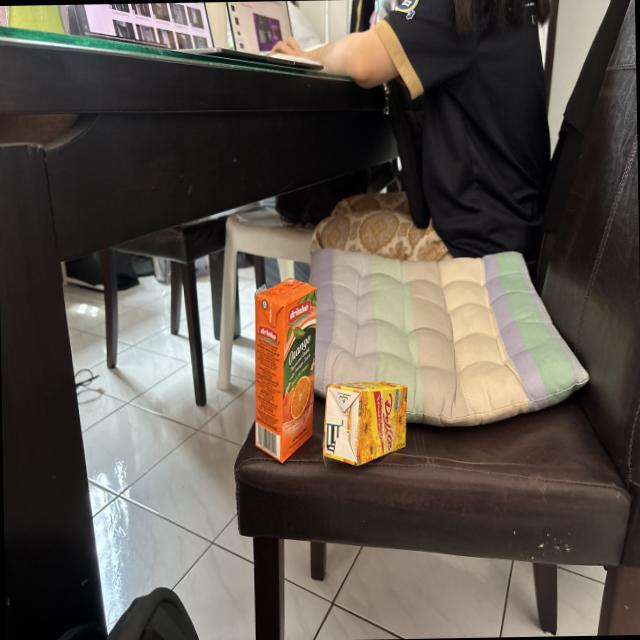drink_carton: (245, 271, 322, 467), (317, 374, 413, 472)
